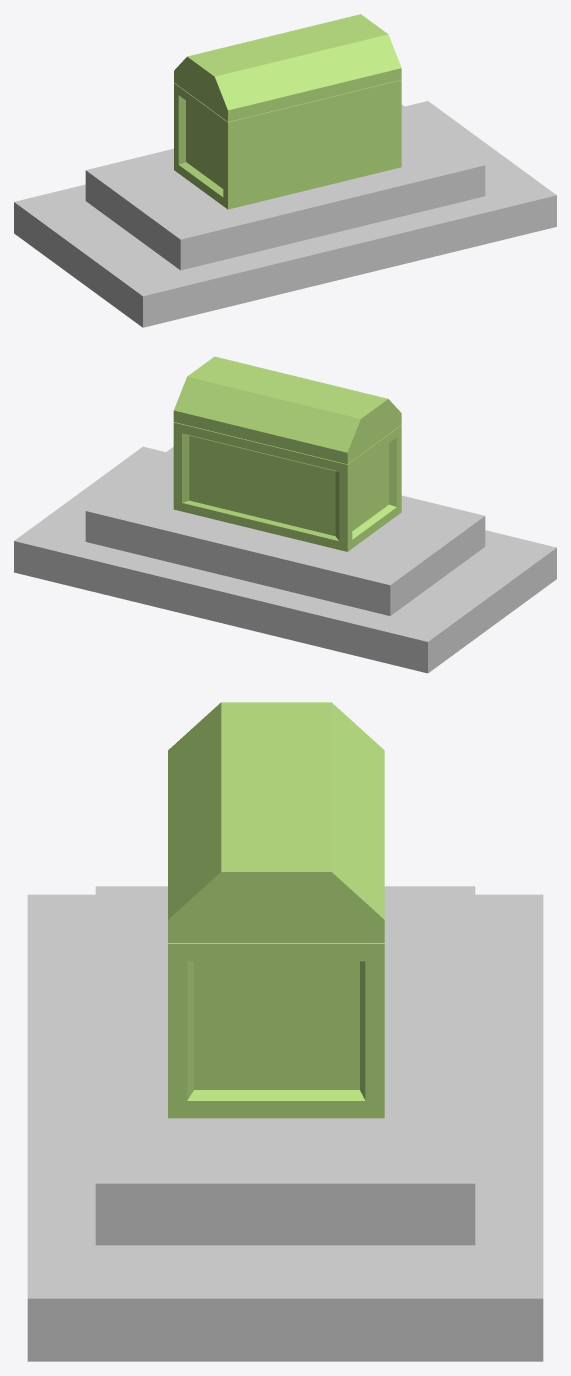
The model's file is Chest_01.fbx.
3 renders of one model, top to bottom at view 1: azimuth 30°, elevation 25°; view 2: azimuth 150°, elevation 25°; view 3: azimuth 270°, elevation 25°, orthographic. The views are drawn at different scales.
Visible parts, largest first — view 1: Chest, Lid; view 2: Chest, Lid; view 3: Chest, Lid.
Part boxes in pixels (x1,y1,x2,y2): Chest: (14, 80, 556, 327); Lid: (174, 14, 401, 121); Chest: (14, 422, 556, 673); Lid: (173, 356, 401, 464); Chest: (27, 886, 543, 1361); Lid: (168, 702, 384, 942).
Size of the model in its own units: 0.3124 by 0.1344 by 0.1686.
